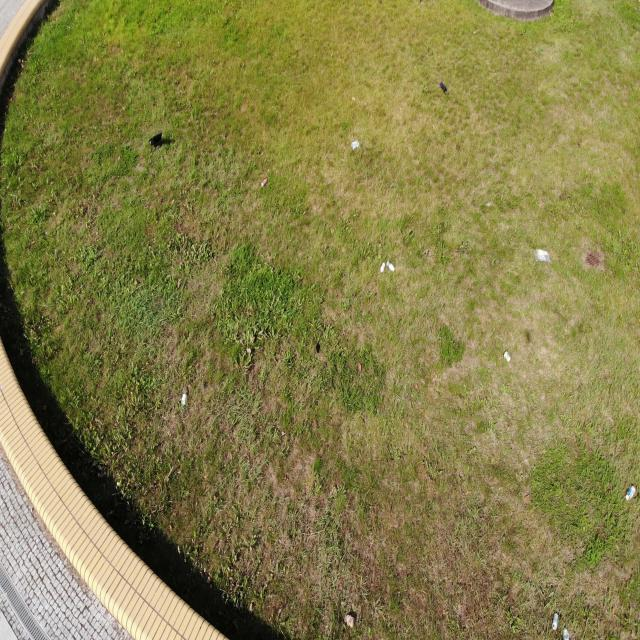rubbish: (534, 249, 551, 264), (344, 613, 355, 628), (626, 484, 636, 500), (439, 79, 448, 93), (552, 613, 559, 628), (350, 139, 361, 148), (502, 350, 510, 362), (386, 260, 394, 272), (562, 630, 570, 640), (260, 177, 267, 187), (181, 394, 187, 405), (381, 262, 385, 272)
